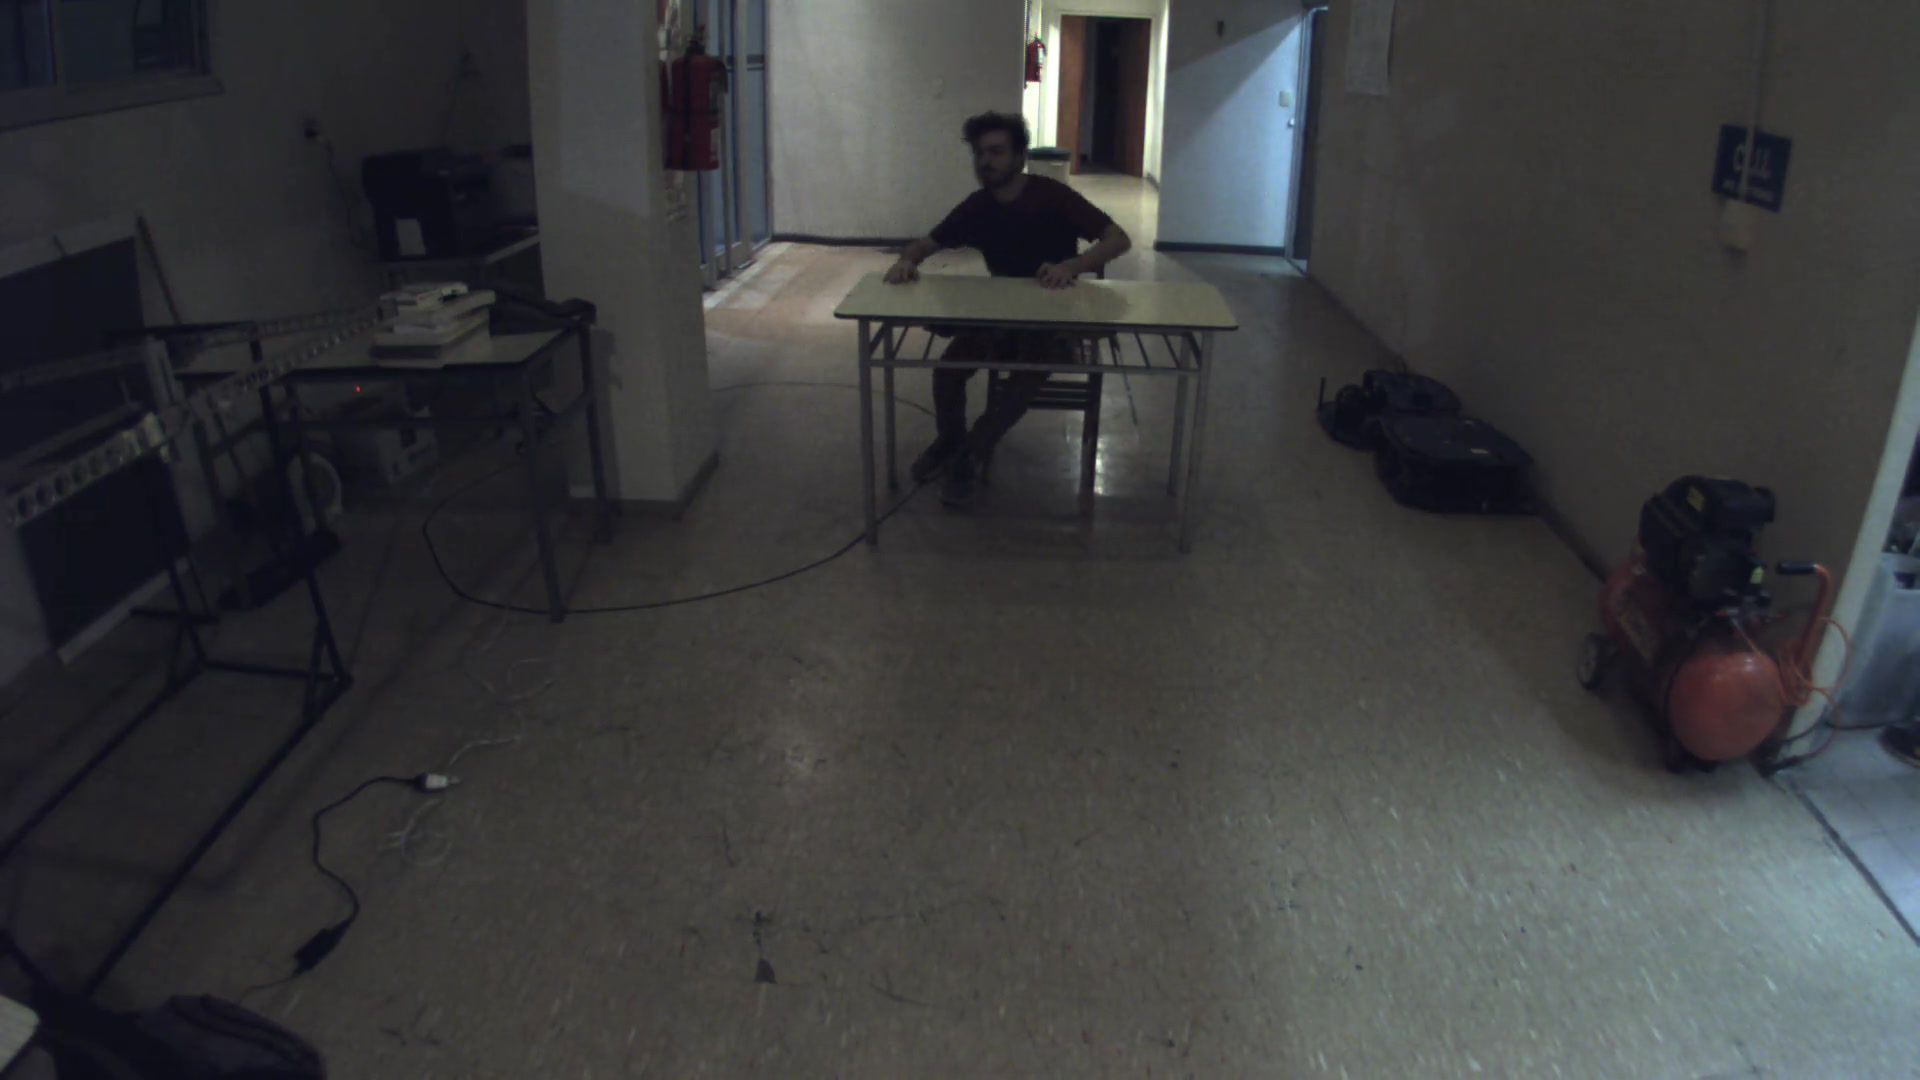hand: (1027, 245, 1089, 295), (873, 252, 928, 290)
